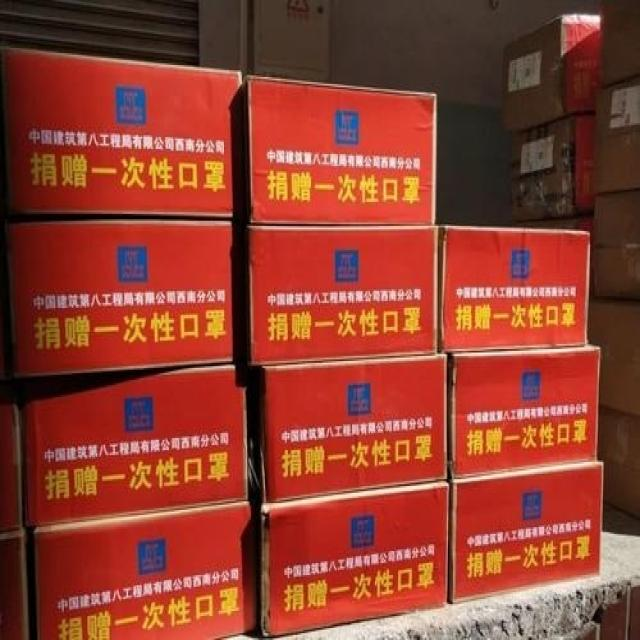box: (3, 46, 251, 224), (15, 364, 252, 529), (8, 221, 233, 378), (26, 501, 261, 640), (247, 353, 449, 505), (241, 72, 438, 224), (264, 479, 451, 637), (232, 224, 439, 364), (451, 460, 604, 604), (449, 346, 600, 484), (438, 226, 591, 351), (0, 530, 33, 640)
